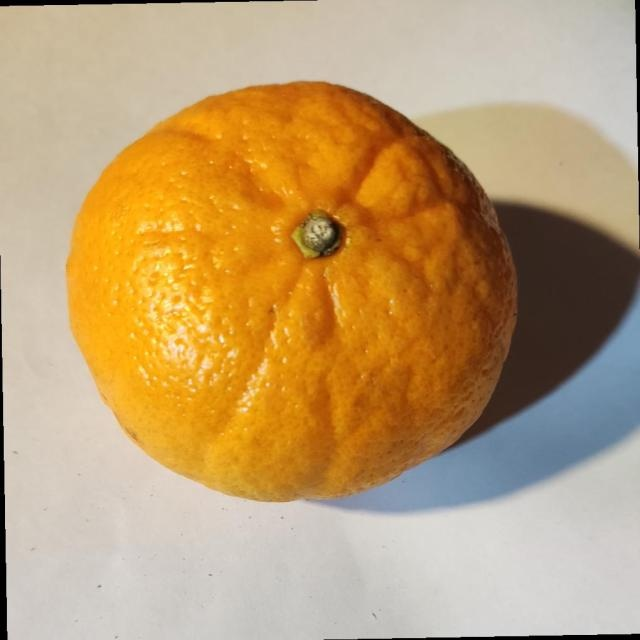agrume: (64, 79, 519, 504)
